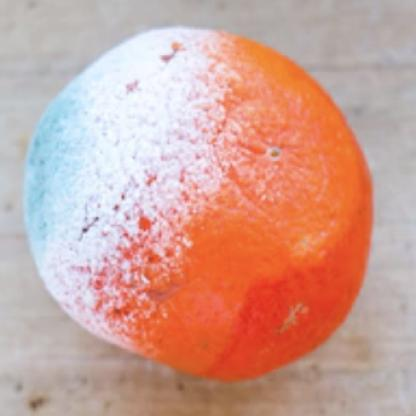rotten: (27, 26, 377, 387)
